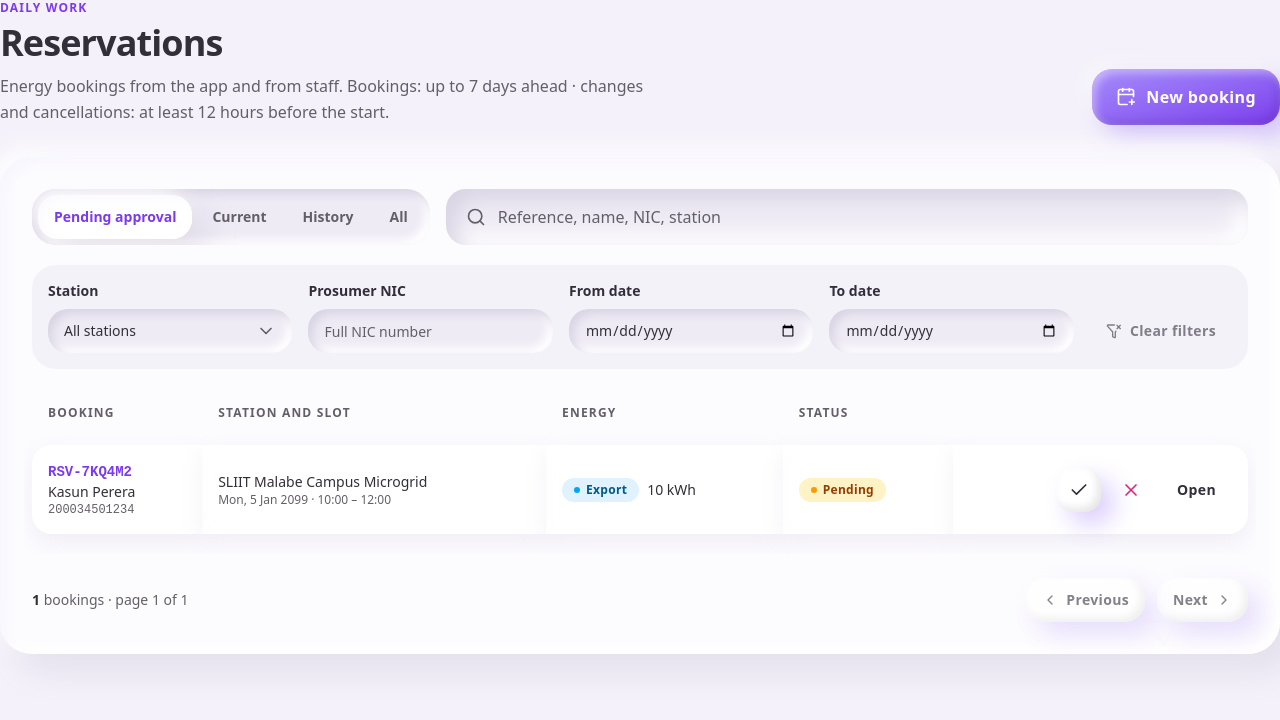
Test: ReservationsPage › approves a pending booking from the list
Click the button named "Approve RSV-7KQ4M2" at (1079, 490), box [1057, 468, 1101, 512]
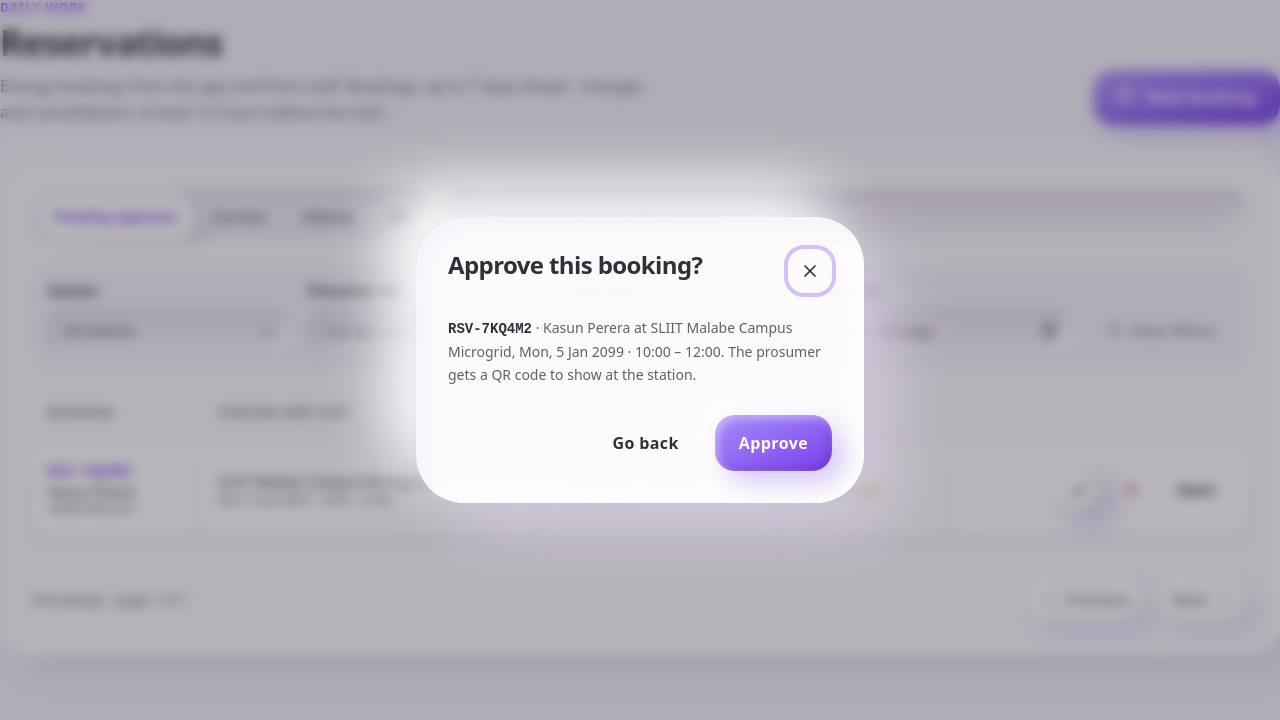
Now the dialog "Approve this booking?" shows "Kasun Perera at SLIIT Malabe Campus Microgrid", box [416, 217, 864, 503]
Click the button "Approve" at (773, 443), box [715, 415, 832, 471]
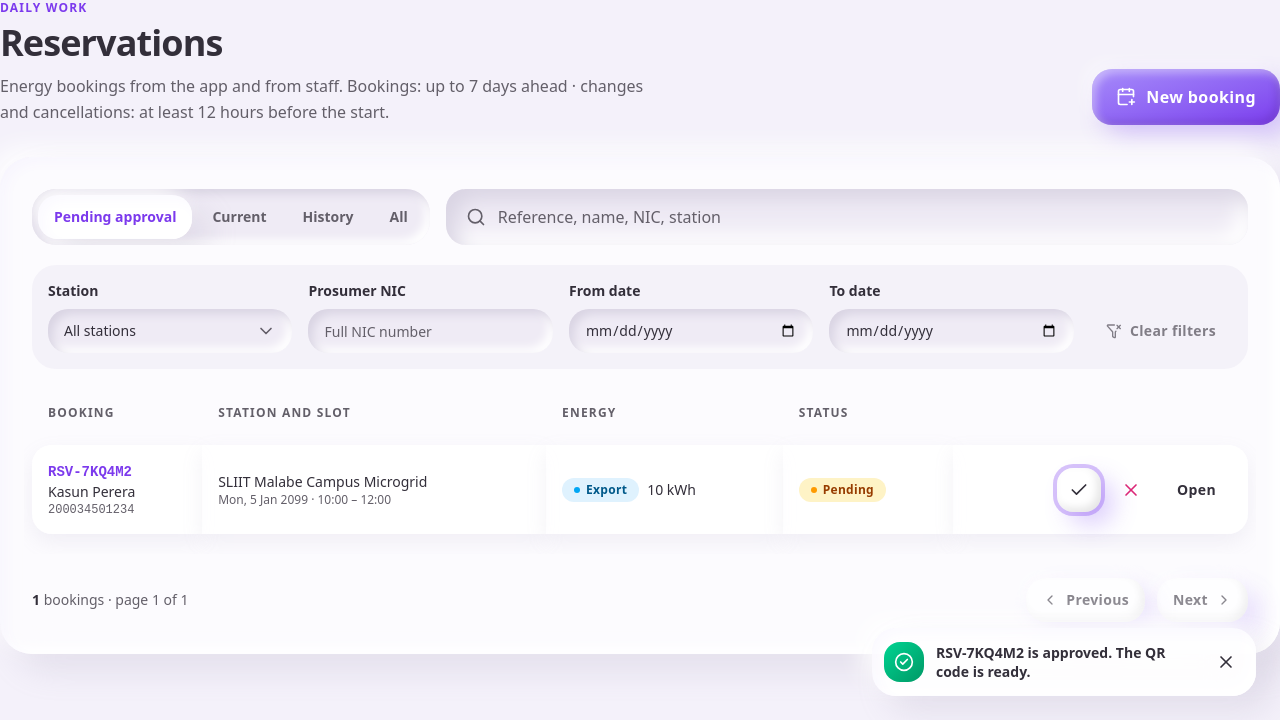
Now the text "RSV-7KQ4M2 is approved. The QR code is ready." is shown, box [936, 643, 1192, 681]
